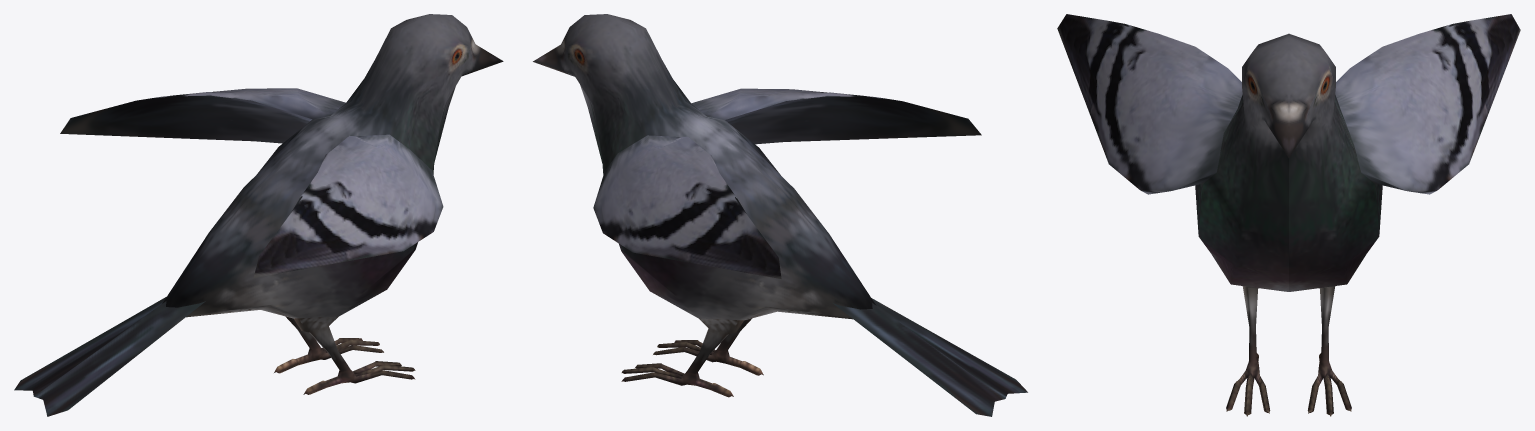
File: JianKongJieDao_01_gezi_01.FBX
3 renders of one model, left to right at view 1: azimuth 30°, elevation 25°; view 2: azimuth 150°, elevation 25°; view 3: azimuth 270°, elevation 25°, orthographic. The views are drawn at different scales.
Visible parts, largest first — view 1: JianKongJieDao_01_gezi_01; view 2: JianKongJieDao_01_gezi_01; view 3: JianKongJieDao_01_gezi_01.
Part boxes in pixels (x1,y1,x2,y2): JianKongJieDao_01_gezi_01: (14,14,503,416); JianKongJieDao_01_gezi_01: (533,14,1027,416); JianKongJieDao_01_gezi_01: (1057,14,1520,416).
Size of the model in its own units: 158 by 107 by 113.
